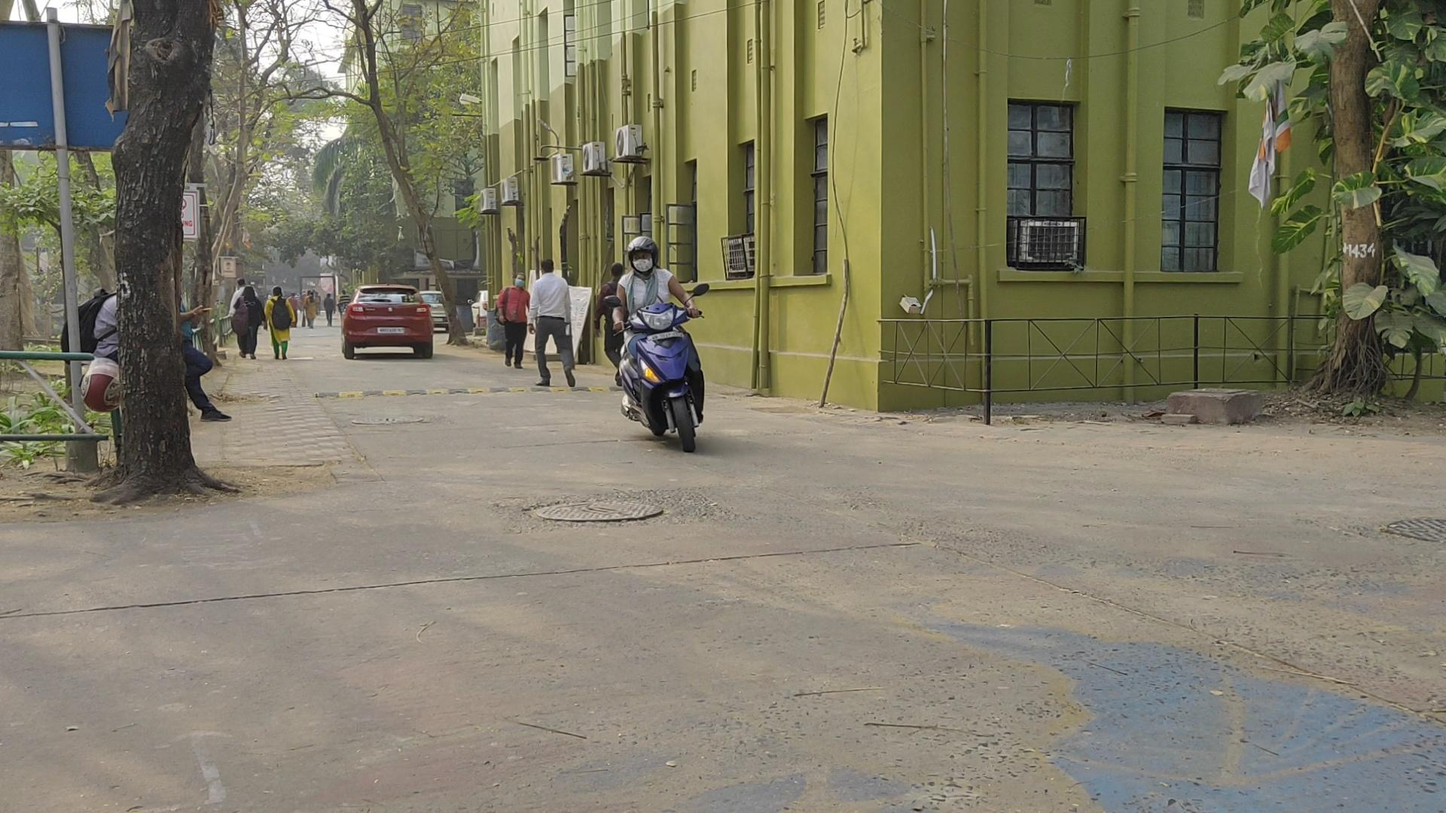bike: (603, 236, 710, 454)
car: (341, 284, 435, 360)
